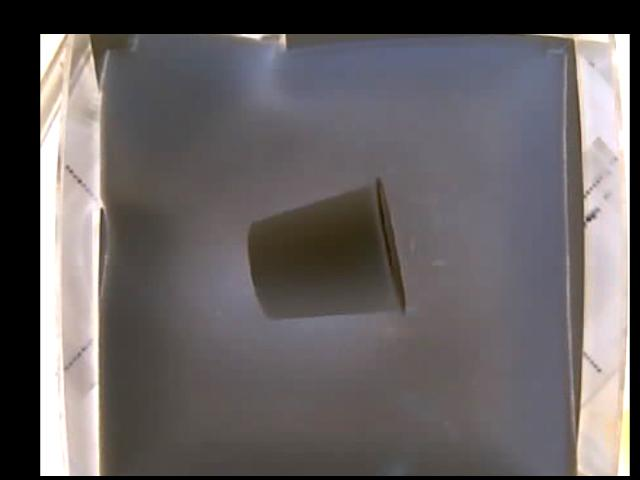Cup: (246, 173, 407, 322)
